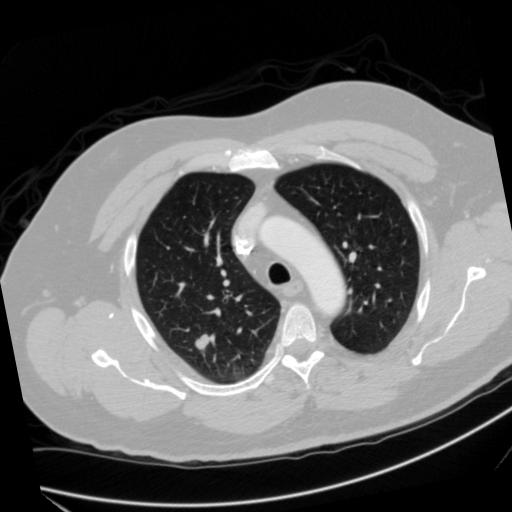nodule: (192, 331, 214, 353)
